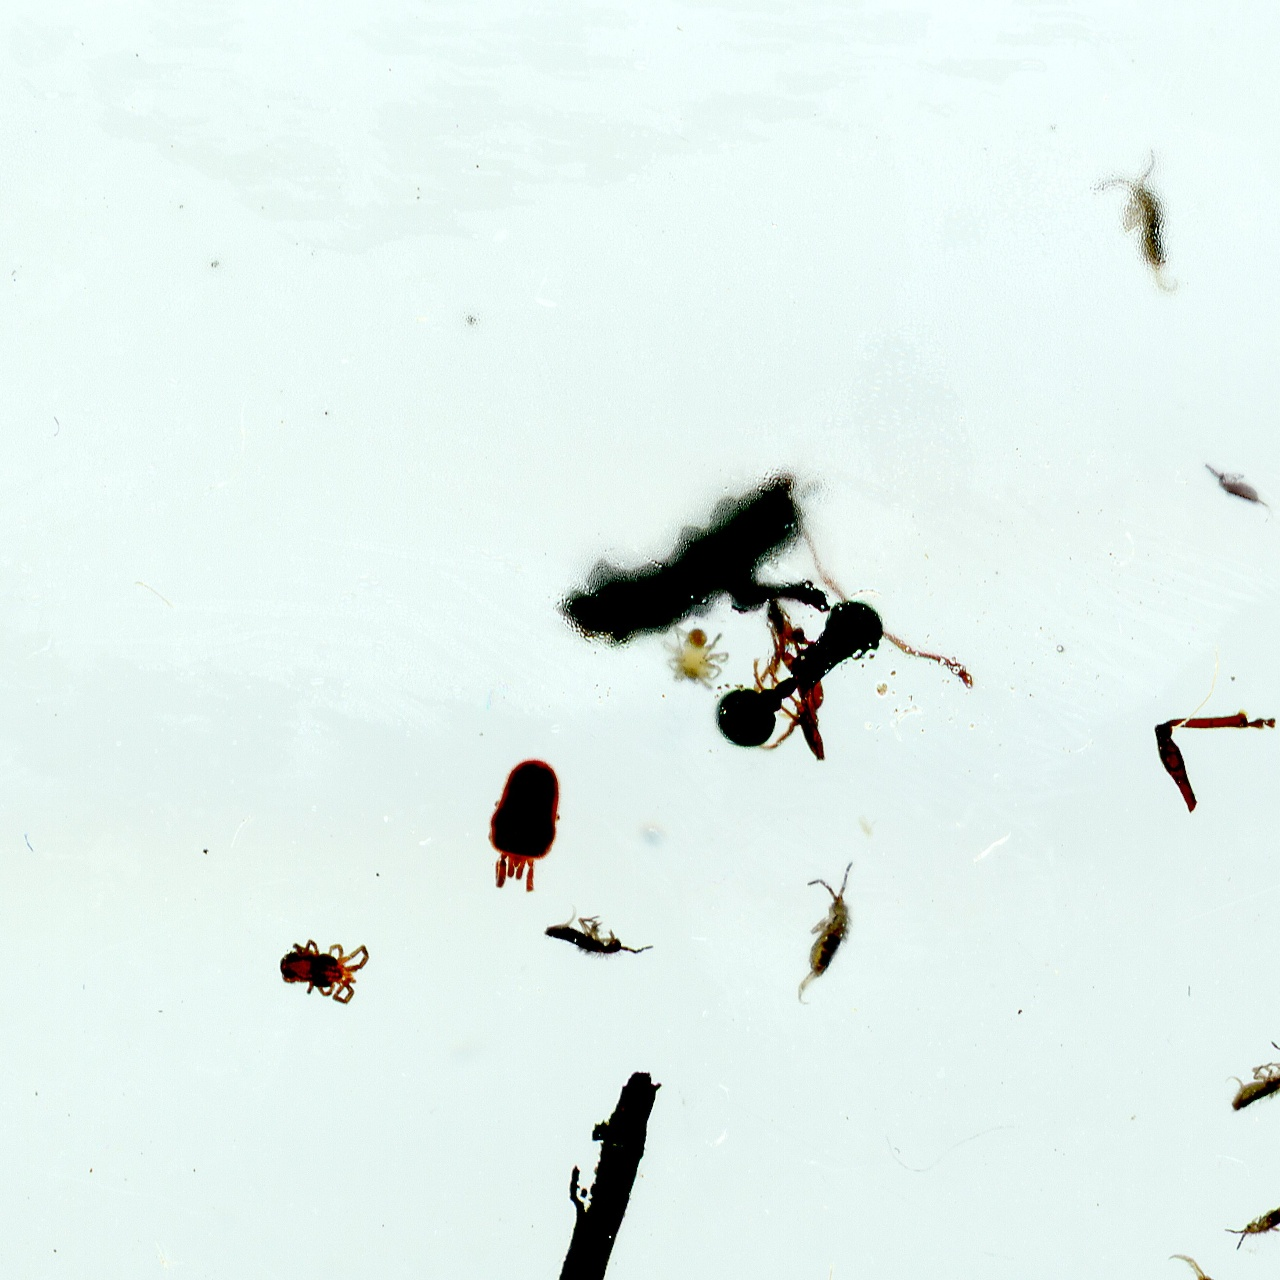arthropod: (656, 512, 989, 845), (768, 843, 877, 1024), (1088, 139, 1190, 298), (477, 745, 572, 900), (519, 886, 667, 972), (1207, 1006, 1280, 1138), (278, 928, 379, 1007), (661, 620, 734, 699), (1198, 459, 1280, 523), (1162, 1251, 1276, 1280), (1224, 1197, 1280, 1250)
